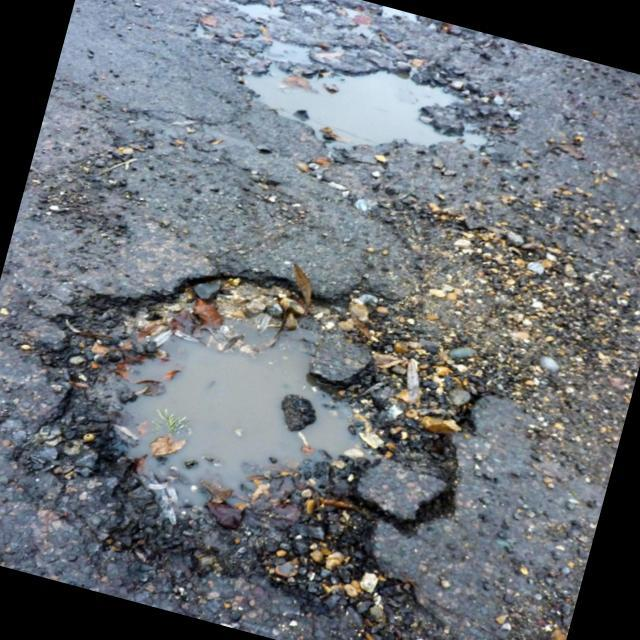Pothole: (8, 226, 472, 628), (238, 18, 502, 186)
